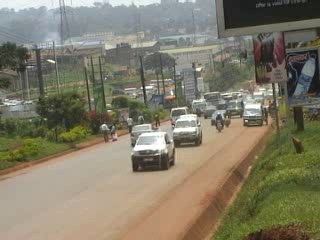Car: (172, 112, 204, 149), (128, 121, 160, 151), (223, 96, 246, 119), (210, 108, 232, 127), (195, 101, 213, 116), (202, 104, 218, 120), (215, 97, 227, 108)
Motorcycle: (222, 108, 232, 130), (214, 111, 223, 133)
